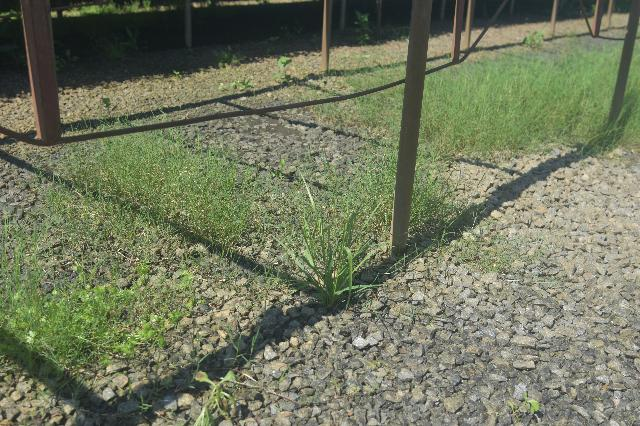MalezaMontesDelPlata: (5, 219, 124, 388), (265, 192, 389, 317), (47, 129, 178, 229), (513, 51, 613, 146), (175, 149, 266, 250), (425, 74, 509, 156), (417, 158, 470, 255), (349, 9, 375, 54), (271, 52, 299, 91)
